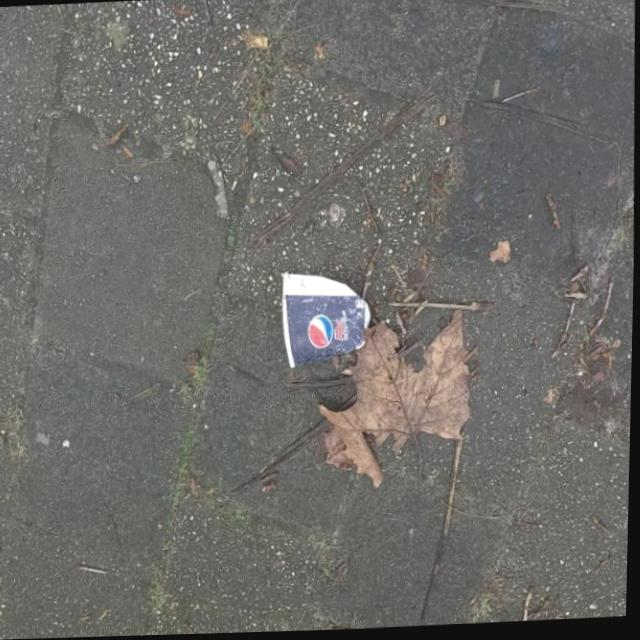Cup: (272, 261, 376, 370)
